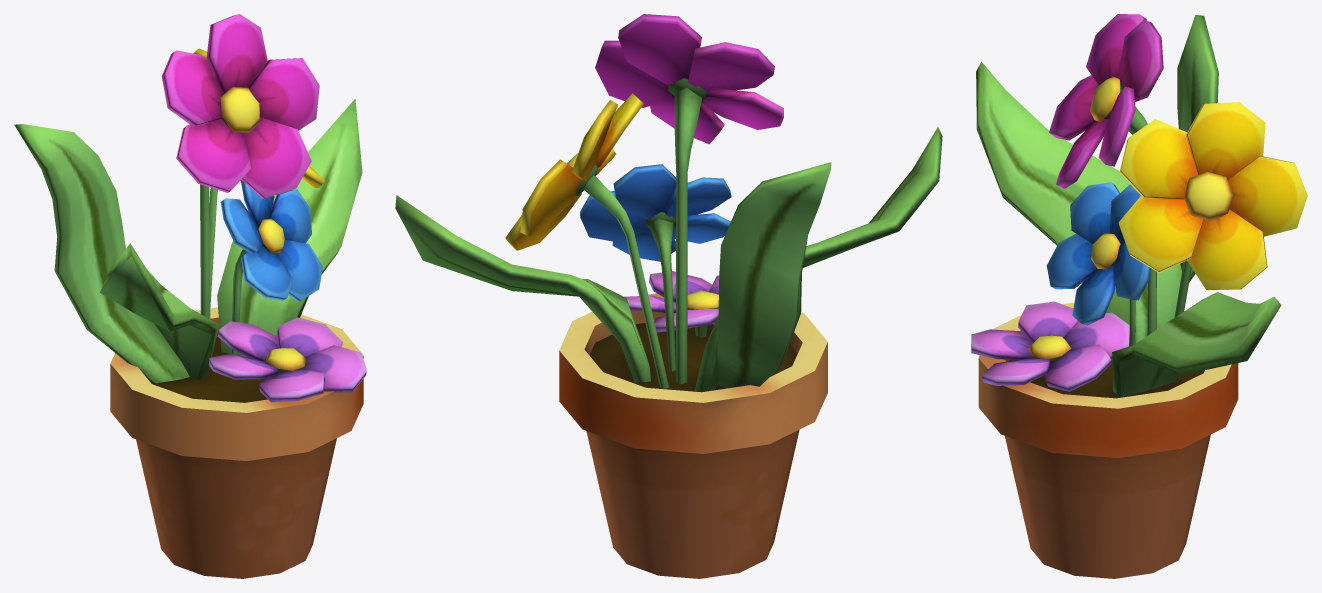
File: FlowerPot.fbx
3 views of the same model, side by side, from view 1: azimuth 30°, elevation 25°; view 2: azimuth 150°, elevation 25°; view 3: azimuth 270°, elevation 25° (orthographic). The views are drawn at different scales.
Visible parts, largest first — view 1: FlowerPot; view 2: FlowerPot; view 3: FlowerPot.
Part boxes in pixels (x1,y1,x2,y2): FlowerPot: [14, 14, 366, 578]; FlowerPot: [395, 14, 942, 578]; FlowerPot: [971, 14, 1307, 578].
Bounding box in the file's own units: 40.34 × 52.05 × 30.27.
Materials: 1 (1 with a texture image).
